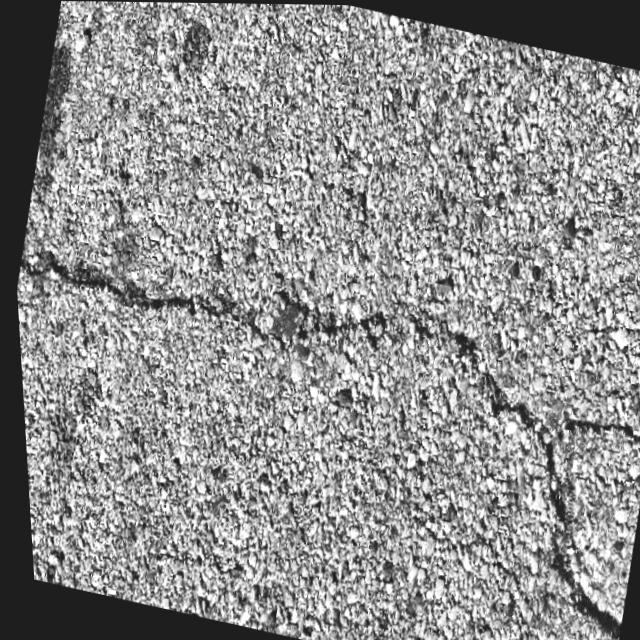cracks: (24, 253, 483, 363), (493, 400, 610, 629)
